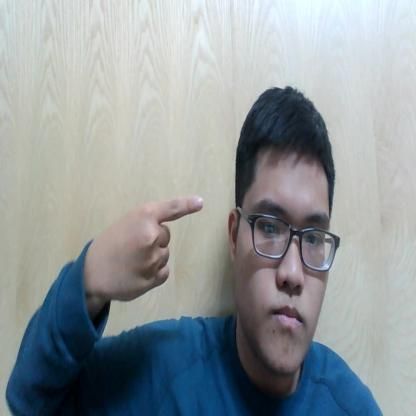left: (94, 186, 206, 302)
